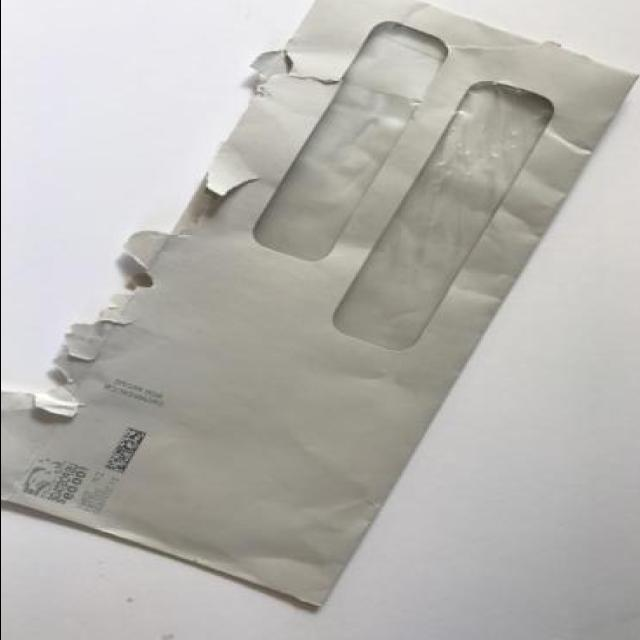kertas: (0, 0, 634, 612)
